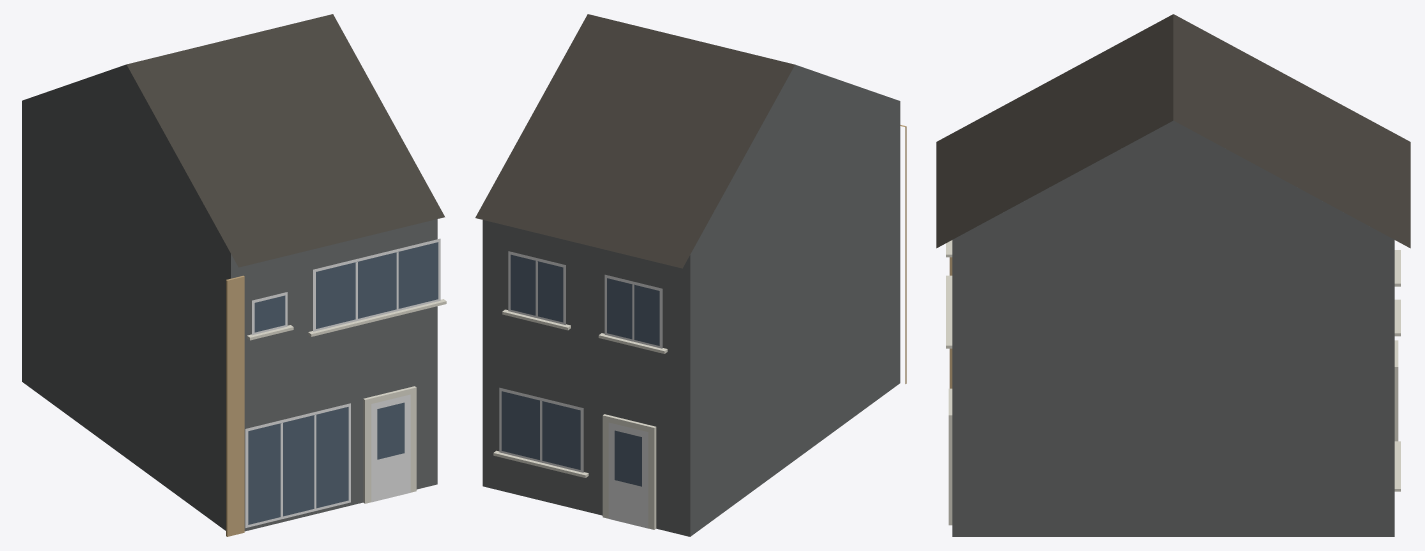
The model's file is nw-rowhouse-render-pilaster__grey__2__gable__long__solid.glb.
3 renders of one model, left to right at view 1: azimuth 30°, elevation 25°; view 2: azimuth 150°, elevation 25°; view 3: azimuth 270°, elevation 25°, orthographic. The views are drawn at different scales.
Visible parts, largest first — view 1: nw-rowhouse-render-pilaster__grey__2__gable__long__solid; view 2: nw-rowhouse-render-pilaster__grey__2__gable__long__solid; view 3: nw-rowhouse-render-pilaster__grey__2__gable__long__solid.
Part boxes in pixels (x1,y1,x2,y2): nw-rowhouse-render-pilaster__grey__2__gable__long__solid: (22,14,446,536); nw-rowhouse-render-pilaster__grey__2__gable__long__solid: (475,14,906,536); nw-rowhouse-render-pilaster__grey__2__gable__long__solid: (936,14,1410,536).
Bounding box in the file's own units: 4.98 × 8.61 × 8.89.
